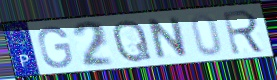0: (189, 12, 224, 58)
2: (72, 19, 117, 69)
G: (36, 25, 75, 70)
N: (147, 15, 190, 61)
Q: (111, 18, 154, 64)
R: (221, 8, 268, 57)
